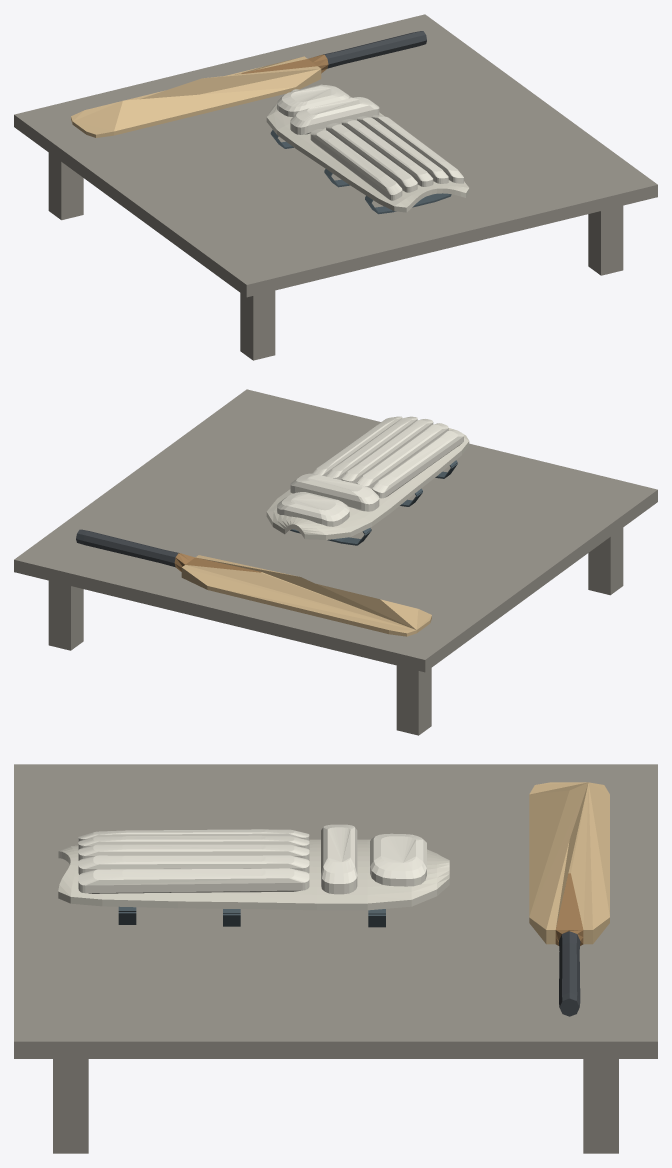
3 views of the same model, one above another, from view 1: azimuth 30°, elevation 25°; view 2: azimuth 150°, elevation 25°; view 3: azimuth 270°, elevation 25° (orthographic). The views are drawn at different scales.
Parts seen in each view (by area): view 1: SceneWholeOpenFourLegEquipmentBench, WholeGroundFootRidgedBladeAndStoppedVSplice, WholeRoundedTopAndInstepNotchBacking, WholeGroundFootVSplicedTongueAndRoundGrip, WholeLongitudinalShinBolster01, WholeTransverseKneeRoll, WholeLongitudinalShinBolster02, WholeLongitudinalShinBolster03, WholeRoundedUpperFlapCushion, WholeLongitudinalShinBolster04, WholeLongitudinalShinBolster05; view 2: SceneWholeOpenFourLegEquipmentBench, WholeGroundFootRidgedBladeAndStoppedVSplice, WholeRoundedTopAndInstepNotchBacking, WholeGroundFootVSplicedTongueAndRoundGrip, WholeLongitudinalShinBolster01, WholeTransverseKneeRoll, WholeRoundedUpperFlapCushion, WholeLongitudinalShinBolster02, WholeLongitudinalShinBolster03, WholeLongitudinalShinBolster04, WholeLongitudinalShinBolster05; view 3: SceneWholeOpenFourLegEquipmentBench, WholeGroundFootRidgedBladeAndStoppedVSplice, WholeRoundedTopAndInstepNotchBacking, WholeLongitudinalShinBolster05, WholeLongitudinalShinBolster04, WholeRoundedUpperFlapCushion, WholeGroundFootVSplicedTongueAndRoundGrip, WholeLongitudinalShinBolster03, WholeTransverseKneeRoll, WholeLongitudinalShinBolster02, WholeLongitudinalShinBolster01.
Boxes of the visible parts, x1,y1,x2,y2 form: SceneWholeOpenFourLegEquipmentBench: [14, 14, 657, 360]; WholeGroundFootRidgedBladeAndStoppedVSplice: [71, 56, 321, 137]; WholeRoundedTopAndInstepNotchBacking: [266, 89, 469, 212]; WholeGroundFootVSplicedTongueAndRoundGrip: [241, 31, 426, 73]; WholeLongitudinalShinBolster01: [310, 129, 402, 200]; WholeTransverseKneeRoll: [290, 97, 379, 134]; WholeLongitudinalShinBolster02: [326, 123, 417, 192]; WholeLongitudinalShinBolster03: [341, 119, 433, 186]; WholeRoundedUpperFlapCushion: [277, 84, 349, 116]; WholeLongitudinalShinBolster04: [357, 116, 448, 183]; WholeLongitudinalShinBolster05: [372, 115, 463, 183]; SceneWholeOpenFourLegEquipmentBench: [14, 389, 657, 735]; WholeGroundFootRidgedBladeAndStoppedVSplice: [181, 555, 431, 636]; WholeRoundedTopAndInstepNotchBacking: [266, 428, 469, 539]; WholeGroundFootVSplicedTongueAndRoundGrip: [76, 529, 261, 572]; WholeLongitudinalShinBolster01: [372, 429, 463, 498]; WholeTransverseKneeRoll: [290, 473, 379, 511]; WholeRoundedUpperFlapCushion: [277, 492, 349, 526]; WholeLongitudinalShinBolster02: [357, 423, 448, 488]; WholeLongitudinalShinBolster03: [341, 419, 433, 483]; WholeLongitudinalShinBolster04: [326, 416, 417, 480]; WholeLongitudinalShinBolster05: [312, 416, 402, 476]; SceneWholeOpenFourLegEquipmentBench: [14, 764, 657, 1153]; WholeGroundFootRidgedBladeAndStoppedVSplice: [529, 782, 609, 944]; WholeRoundedTopAndInstepNotchBacking: [58, 839, 449, 910]; WholeLongitudinalShinBolster05: [78, 868, 309, 893]; WholeLongitudinalShinBolster04: [78, 855, 309, 874]; WholeRoundedUpperFlapCushion: [370, 833, 426, 886]; WholeGroundFootVSplicedTongueAndRoundGrip: [555, 873, 583, 1016]; WholeLongitudinalShinBolster03: [78, 844, 309, 860]; WholeTransverseKneeRoll: [321, 824, 357, 894]; WholeLongitudinalShinBolster02: [78, 835, 309, 849]; WholeLongitudinalShinBolster01: [78, 829, 309, 841].
Size of the model in its own units: 1.04 by 0.3236 by 1.02.
